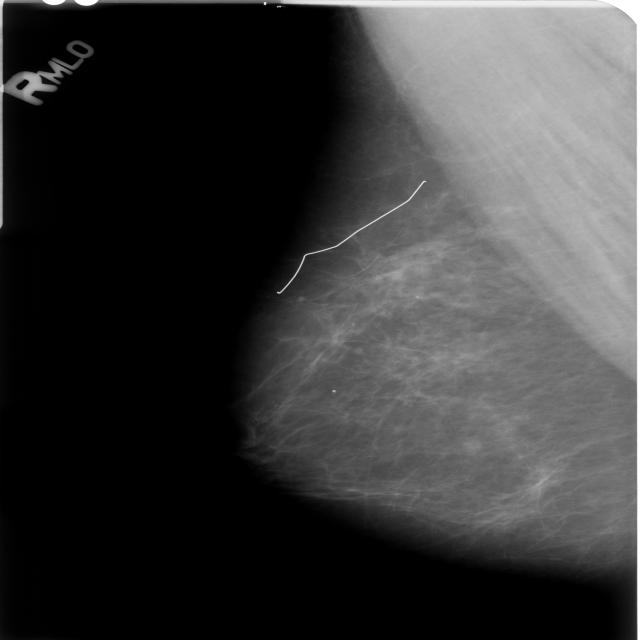normal: (222, 46, 640, 578)
